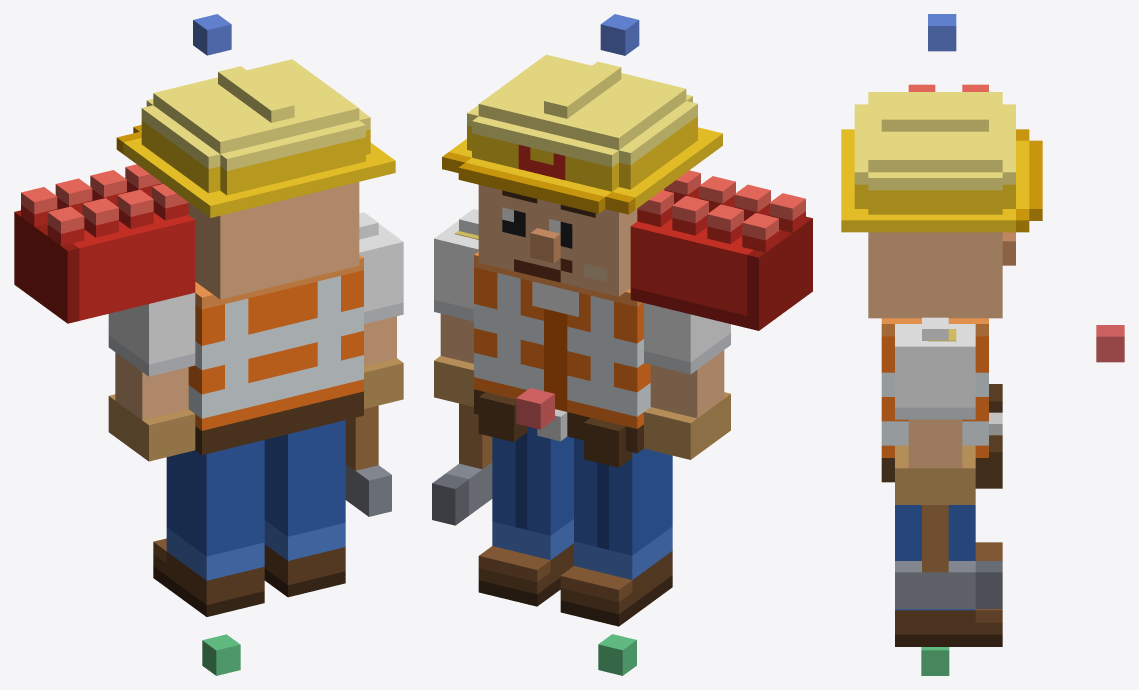
The model's file is BuilderinoMattoncino.glb.
3 views of the same model, side by side, from view 1: azimuth 30°, elevation 25°; view 2: azimuth 150°, elevation 25°; view 3: azimuth 270°, elevation 25° (orthographic).
Visible parts, largest first — view 1: BuilderinoMattoncino_Head5, BuilderinoMattoncino_Arm4, BuilderinoMattoncino_Body, BuilderinoMattoncino_Leg2, BuilderinoMattoncino_Leg1, BuilderinoMattoncino_Arm3, BuilderinoMattoncino_Built, BuilderinoMattoncino_Top; view 2: BuilderinoMattoncino_Head5, BuilderinoMattoncino_Arm4, BuilderinoMattoncino_Body, BuilderinoMattoncino_Leg2, BuilderinoMattoncino_Leg1, BuilderinoMattoncino_Arm3, BuilderinoMattoncino_Top, BuilderinoMattoncino_Front, BuilderinoMattoncino_Built; view 3: BuilderinoMattoncino_Head5, BuilderinoMattoncino_Arm3, BuilderinoMattoncino_Body, BuilderinoMattoncino_Leg1, BuilderinoMattoncino_Front, BuilderinoMattoncino_Top, BuilderinoMattoncino_Built, BuilderinoMattoncino_Leg2, BuilderinoMattoncino_Arm4.
Boxes of the visible parts, x1,y1,x2,y2 form: BuilderinoMattoncino_Head5: (116,59,395,299); BuilderinoMattoncino_Arm4: (14,164,195,461); BuilderinoMattoncino_Body: (188,255,363,454); BuilderinoMattoncino_Leg2: (153,440,264,616); BuilderinoMattoncino_Leg1: (264,420,345,597); BuilderinoMattoncino_Arm3: (345,212,403,516); BuilderinoMattoncino_Built: (202,634,240,675); BuilderinoMattoncino_Top: (193,14,231,55); BuilderinoMattoncino_Head5: (442,54,722,296); BuilderinoMattoncino_Arm4: (630,170,812,459); BuilderinoMattoncino_Body: (474,251,650,467); BuilderinoMattoncino_Leg2: (560,438,672,626); BuilderinoMattoncino_Leg1: (478,427,573,606); BuilderinoMattoncino_Arm3: (432,209,492,525); BuilderinoMattoncino_Top: (600,14,639,55); BuilderinoMattoncino_Front: (516,388,554,429); BuilderinoMattoncino_Built: (598,634,636,675); BuilderinoMattoncino_Head5: (841,92,1042,318); BuilderinoMattoncino_Arm3: (895,317,1002,608); BuilderinoMattoncino_Body: (881,318,1002,488); BuilderinoMattoncino_Leg1: (895,505,1002,646); BuilderinoMattoncino_Front: (1096,325,1124,362); BuilderinoMattoncino_Top: (928,14,956,51); BuilderinoMattoncino_Built: (921,647,949,675); BuilderinoMattoncino_Leg2: (975,542,1002,560); BuilderinoMattoncino_Arm4: (908,84,988,91).
Bounding box in the file's own units: 3.45 × 6.33 × 2.51.
Materials: 1 (1 with a texture image).
